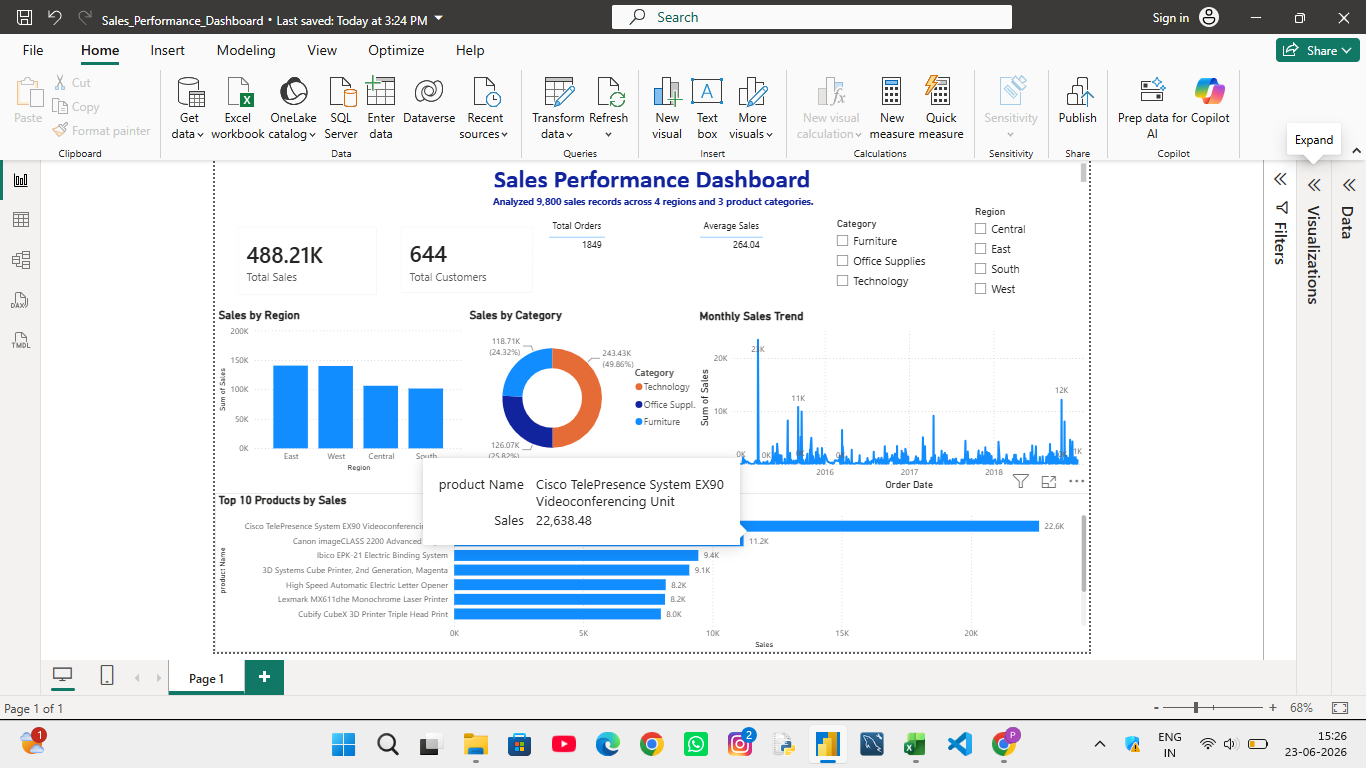

This screenshot's page, from the dashboard's own definition file:
{"tool":"powerbi","page":{"name":"Page 1","canvas":[1280,720],"ordinal":0},"visuals":[{"type":"cardVisual","fields":{"Data":["Sum(superstore sales dataset.Sales)"]},"box":[16.1,80.5,238.5,134.6],"z":0},{"type":"tableEx","fields":{"Values":["superstore sales dataset.Average Sales"]},"box":[703.9,80.5,193.2,122.9],"z":1000},{"type":"tableEx","fields":{"Values":["superstore sales dataset.Total Orders"]},"box":[483.5,79.9,220.2,125.2],"z":2000},{"type":"cardVisual","fields":{"Data":["superstore sales dataset.Total Customers"]},"box":[254.6,80.5,228.3,131.7],"z":3000},{"type":"clusteredColumnChart","title":"Sales by Region","fields":{"Category":["superstore sales dataset.Region"],"Y":["Sum(superstore sales dataset.Sales)"]},"box":[0,216.6,367.3,244.4],"z":4000},{"type":"donutChart","title":"Sales by Category","fields":{"Category":["superstore sales dataset.Category"],"Y":["Sum(superstore sales dataset.Sales)"]},"box":[367.3,216.6,357.1,244.4],"z":5000},{"type":"lineChart","title":"Monthly Sales Trend","fields":{"Category":["superstore sales dataset.Order Date"],"Y":["Sum(superstore sales dataset.Sales)"]},"box":[703.7,218,576.3,269.8],"z":6000},{"type":"clusteredBarChart","title":"Top 10 Products by Sales","fields":{"Y":["Sum(superstore sales dataset.Sales)"],"Category":["superstore sales dataset.Product Name"]},"box":[0,487.3,1280.5,232.7],"z":7000},{"type":"slicer","fields":{"Values":["superstore sales dataset.Region"]},"box":[1099,62.9,158,149.3],"z":8000},{"type":"slicer","fields":{"Values":["superstore sales dataset.Category"]},"box":[897.1,80.5,202,139],"z":9000},{"type":"textbox","box":[16.1,0,1264.4,45.4],"z":10000},{"type":"textbox","box":[357.1,45.4,567.8,35.1],"z":11000}]}

Visuals, with their boxes on the page's 1280x720 design canvas (x1, y1, x2, y2). These are canvas units, not pixel positions in the 1366x768 screenshot, which may show the page scaled, cropped or inside an application window:
cardVisual - Sum(superstore sales dataset.Sales): crop(16, 80, 255, 215)
tableEx - superstore sales dataset.Average Sales: crop(704, 80, 897, 203)
tableEx - superstore sales dataset.Total Orders: crop(484, 80, 704, 205)
cardVisual - superstore sales dataset.Total Customers: crop(255, 80, 483, 212)
"Sales by Region" clusteredColumnChart: crop(0, 217, 367, 461)
"Sales by Category" donutChart: crop(367, 217, 724, 461)
"Monthly Sales Trend" lineChart: crop(704, 218, 1280, 488)
"Top 10 Products by Sales" clusteredBarChart: crop(0, 487, 1280, 720)
slicer - superstore sales dataset.Region: crop(1099, 63, 1257, 212)
slicer - superstore sales dataset.Category: crop(897, 80, 1099, 220)
textbox: crop(16, 0, 1280, 45)
textbox: crop(357, 45, 925, 80)
